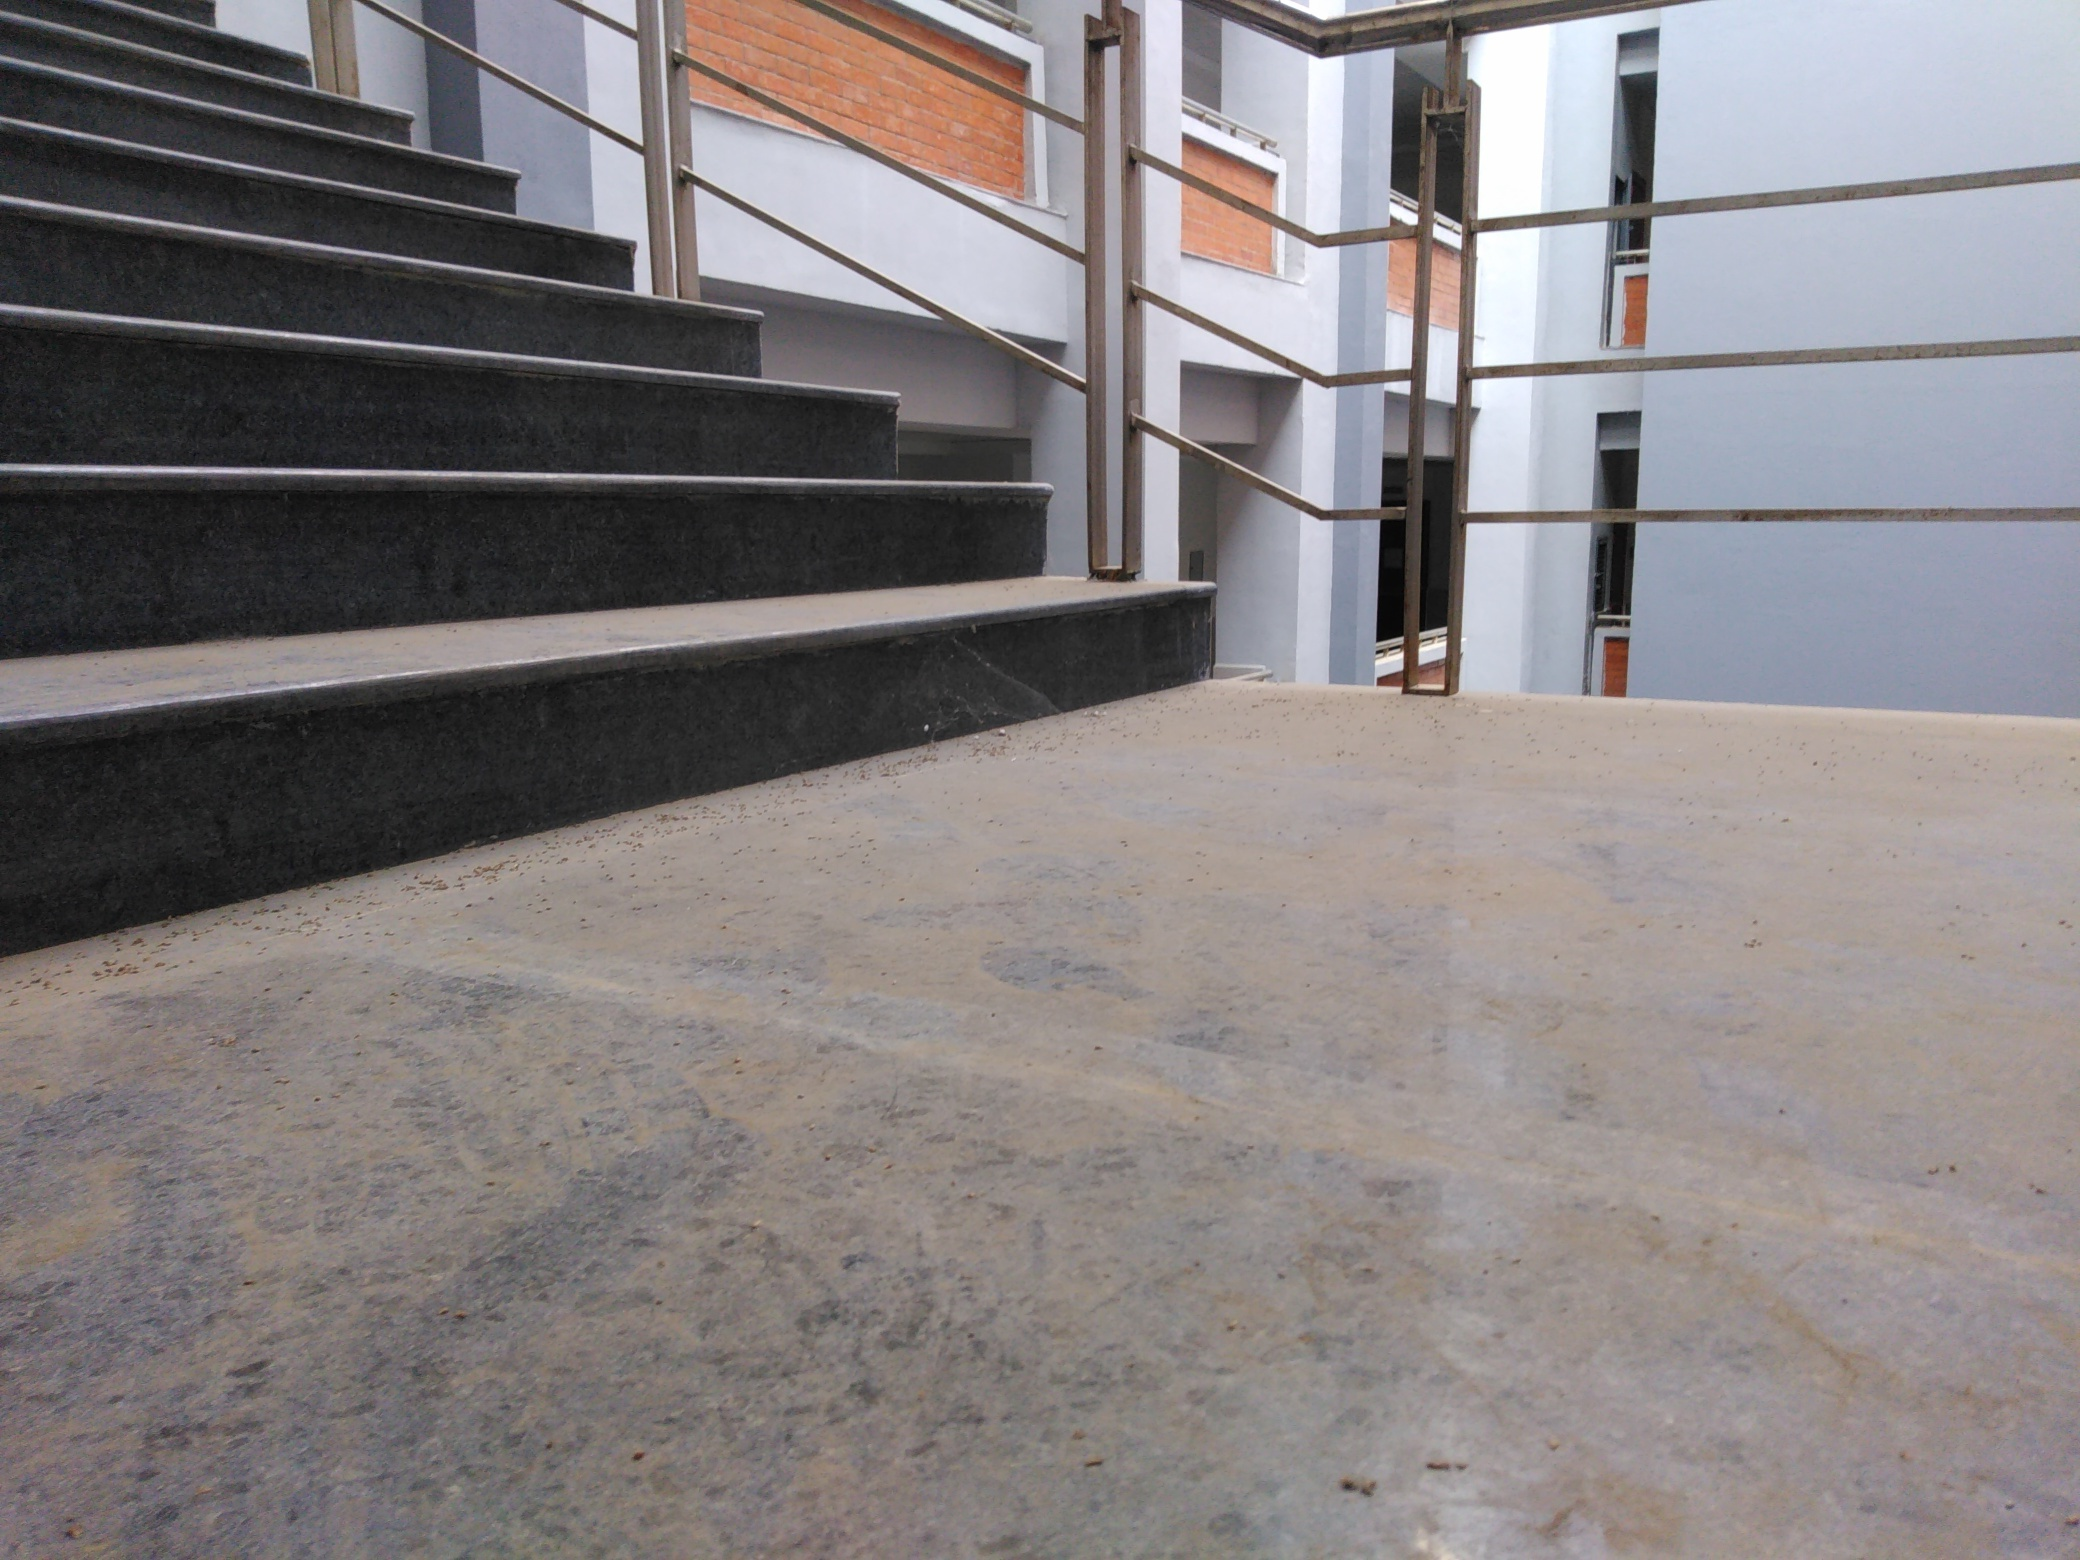stairs_up: (15, 3, 1079, 809)
